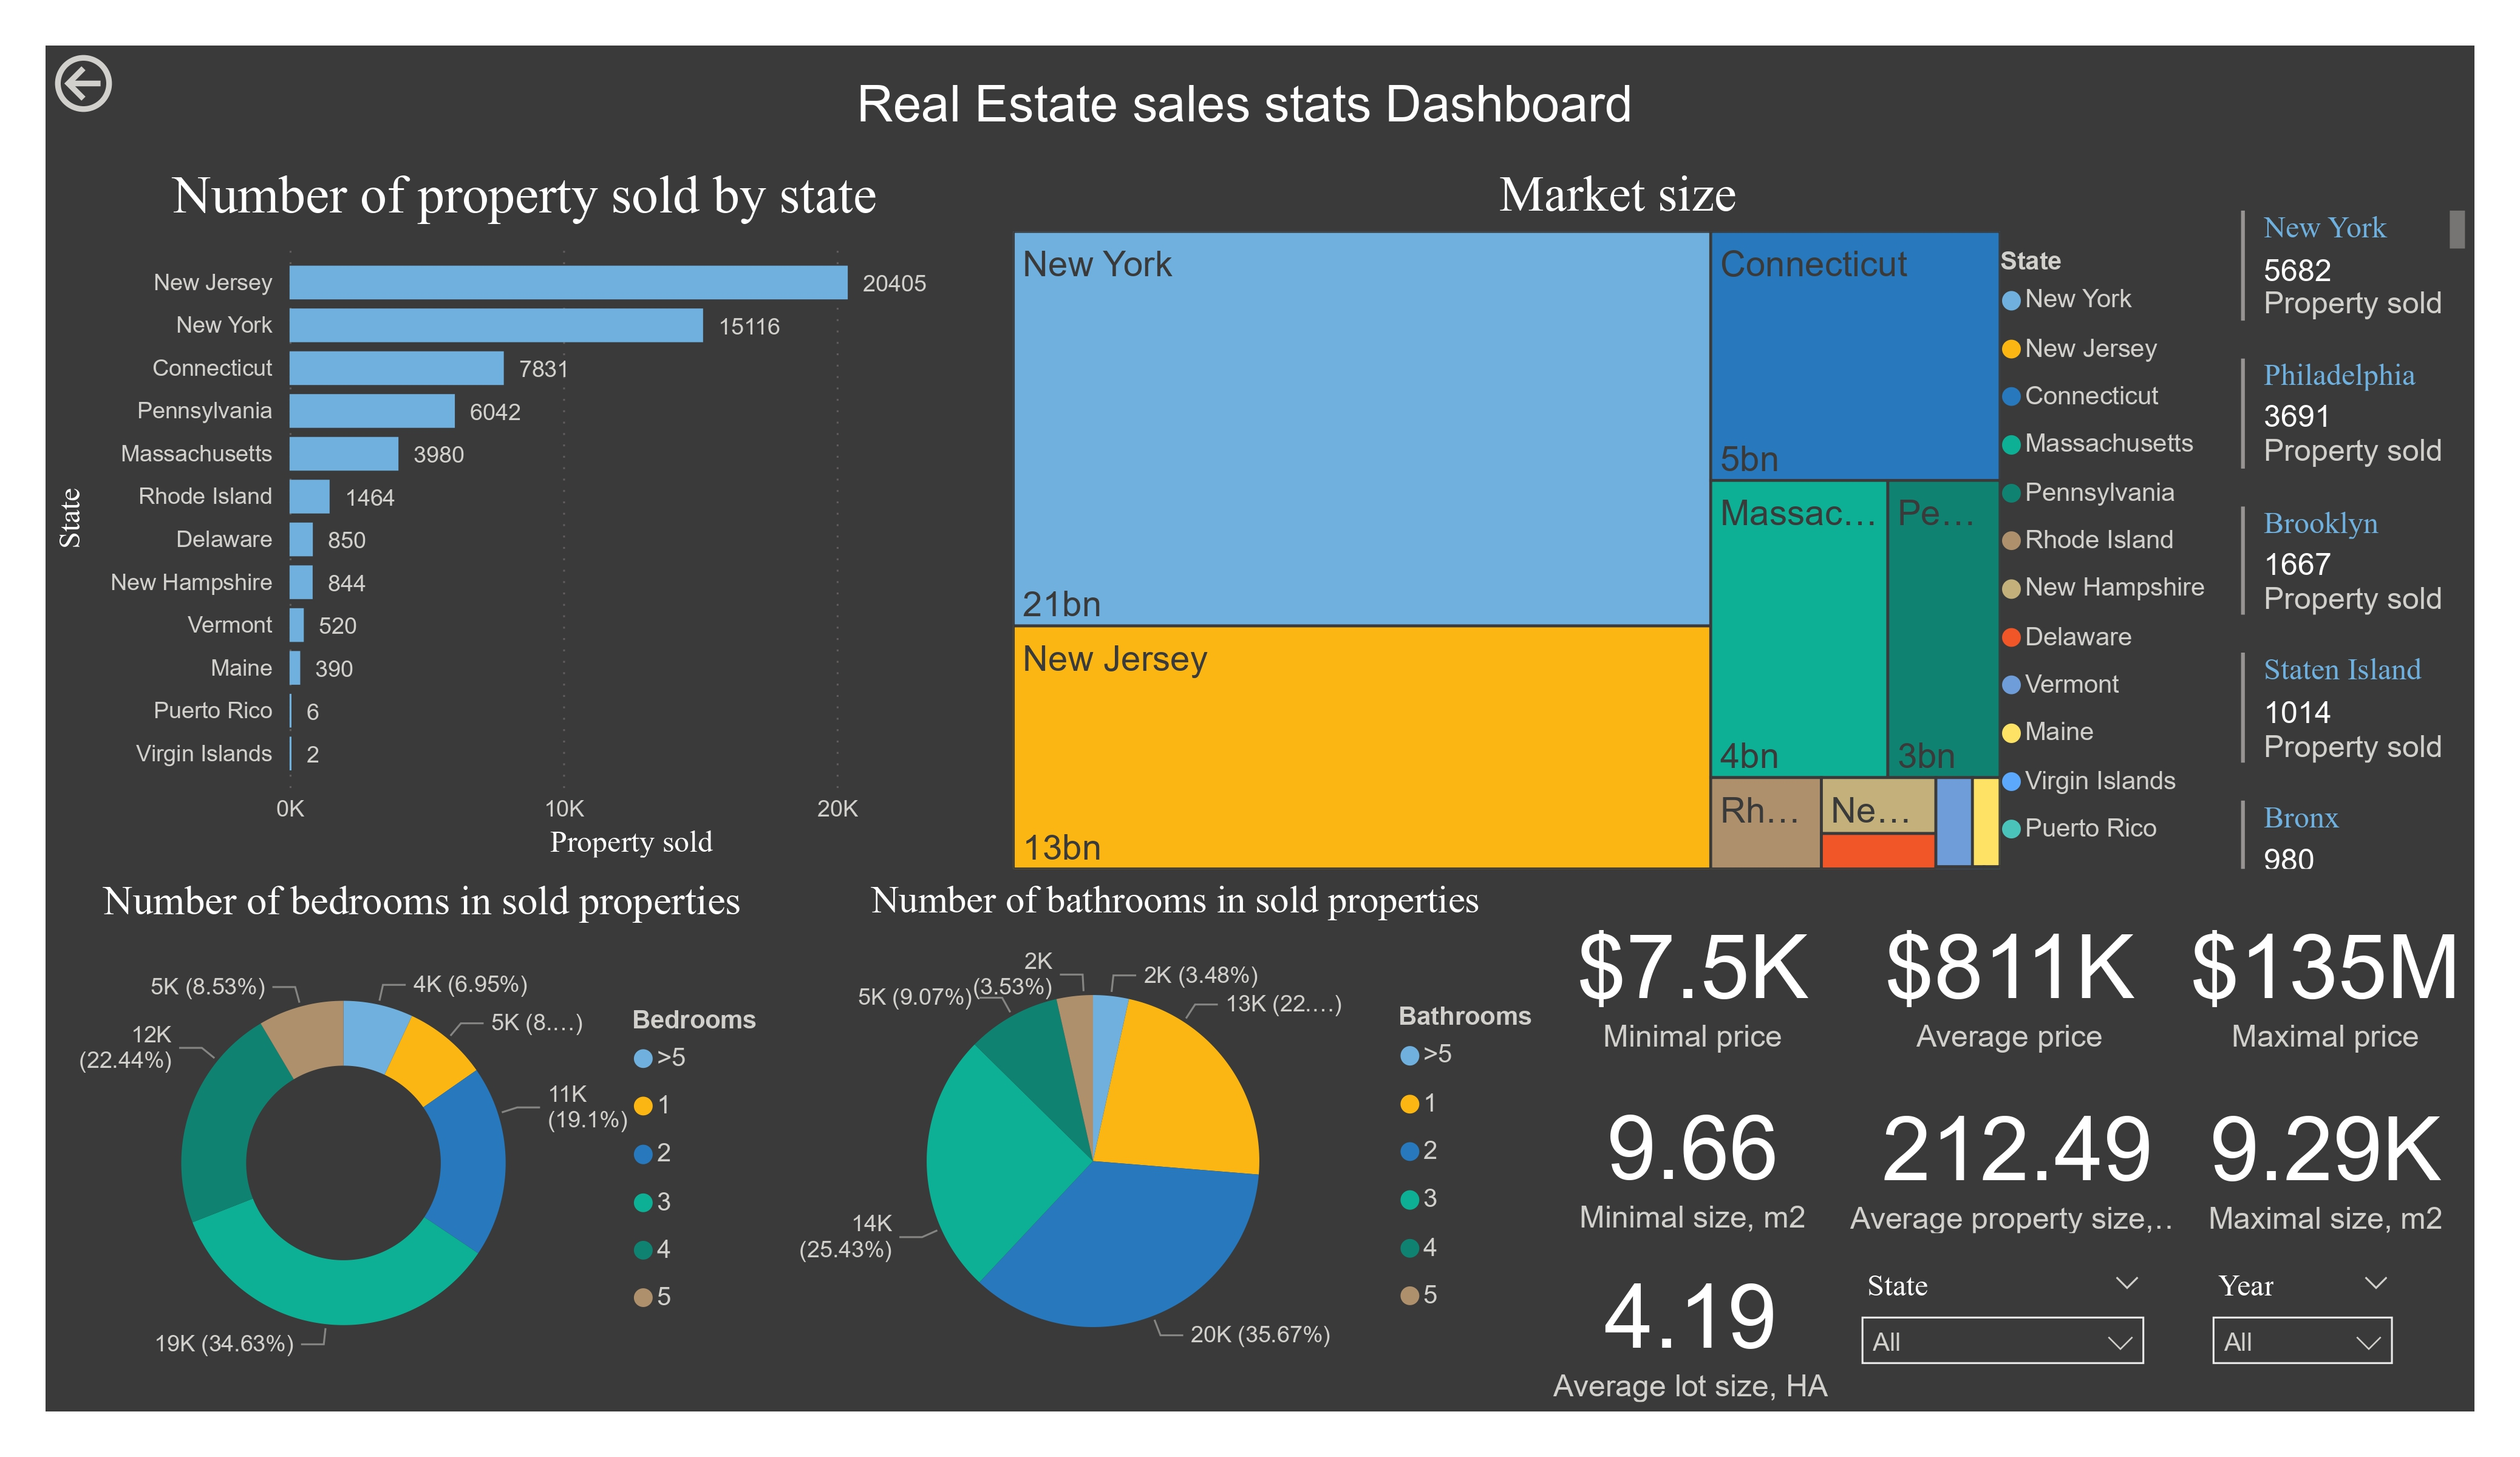

The dashboard page shown, as its layout file describes it:
{"tool":"powerbi","page":{"name":"Real estate stats Dasnboard","canvas":[1280,720],"ordinal":0},"visuals":[{"type":"barChart","title":"Number of property sold by state","fields":{"Category":["Property sold.State"],"Y":["Sum(Property sold.Property sold)"]},"box":[0,63.3,504.8,370.2],"z":0},{"type":"actionButton","box":[0,0,100,40],"z":1000},{"type":"treemap","title":"Market size ","fields":{"Values":["Sum(Property sold.Market size)"],"Group":["Property sold.State"]},"box":[504.8,63.3,647.5,375.6],"z":2000},{"type":"card","fields":{"Values":["Avg(Property sold.Average price)"]},"box":[946.7,439,176.1,104.9],"z":3000},{"type":"pieChart","title":"Number of bathrooms in sold properties","fields":{"Y":["Sum(Property sold.Property sold)"],"Category":["Property sold.Bathrooms grouped"]},"box":[386.4,438.9,418.7,276],"z":4000},{"type":"donutChart","title":"Number of bedrooms in sold properties","fields":{"Y":["Sum(Property sold.Property sold)"],"Series":["Property sold.Bedrooms grouped"]},"box":[0,438.9,397.1,276],"z":5000},{"type":"card","fields":{"Values":["Min(Property sold.Minimal price)"]},"box":[788.7,439,158,104.9],"z":6000},{"type":"card","fields":{"Values":["Max(Property sold.Maximal price)"]},"box":[1122.8,438.9,157.5,105],"z":7000},{"type":"card","fields":{"Values":["Min(Property sold.Minimal_size)"]},"box":[788.7,542.7,158,88],"z":8000},{"type":"card","fields":{"Values":["Avg(Property sold.Average size)"]},"box":[946.4,543.9,185.8,87.5],"z":9000},{"type":"card","fields":{"Values":["Max(Property sold.Maximal_size)"]},"box":[1122.8,543.9,157.5,87.5],"z":10000},{"type":"card","fields":{"Values":["Avg(Property sold.Average lot size)"]},"box":[787.5,632,158,88],"z":11000},{"type":"slicer","fields":{"Values":["Property sold.Year"]},"box":[1132.5,640.4,114.6,79.6],"z":12000},{"type":"slicer","fields":{"Values":["Property sold.State"]},"box":[946.7,640.4,168.8,79.6],"z":13000},{"type":"textbox","box":[317.7,10.8,628.7,43.1],"z":14000},{"type":"multiRowCard","fields":{"Values":["Property sold.City","Sum(Property sold.Property sold)"]},"box":[1152.4,82.1,127.9,356.8],"z":15000}]}

Visuals, with their boxes in screenshot pixels (x1, y1, x2, y2):
"Number of property sold by state" barChart: <region>46, 166, 1003, 868</region>
actionButton: <region>46, 46, 236, 121</region>
"Market size " treemap: <region>1003, 166, 2232, 878</region>
card - Avg(Property sold.Average price): <region>1842, 878, 2176, 1078</region>
"Number of bathrooms in sold properties" pieChart: <region>778, 878, 1573, 1402</region>
"Number of bedrooms in sold properties" donutChart: <region>46, 878, 799, 1402</region>
card - Min(Property sold.Minimal price): <region>1542, 878, 1842, 1078</region>
card - Max(Property sold.Maximal price): <region>2176, 878, 2474, 1078</region>
card - Min(Property sold.Minimal_size): <region>1542, 1075, 1842, 1242</region>
card - Avg(Property sold.Average size): <region>1841, 1078, 2194, 1243</region>
card - Max(Property sold.Maximal_size): <region>2176, 1078, 2474, 1243</region>
card - Avg(Property sold.Average lot size): <region>1540, 1245, 1840, 1411</region>
slicer - Property sold.Year: <region>2195, 1260, 2412, 1411</region>
slicer - Property sold.State: <region>1842, 1260, 2162, 1411</region>
textbox: <region>649, 66, 1842, 148</region>
multiRowCard - Property sold.City x Sum(Property sold.Property sold): <region>2232, 202, 2474, 878</region>
